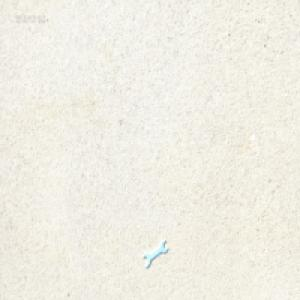Wrench: (143, 239, 167, 267)
